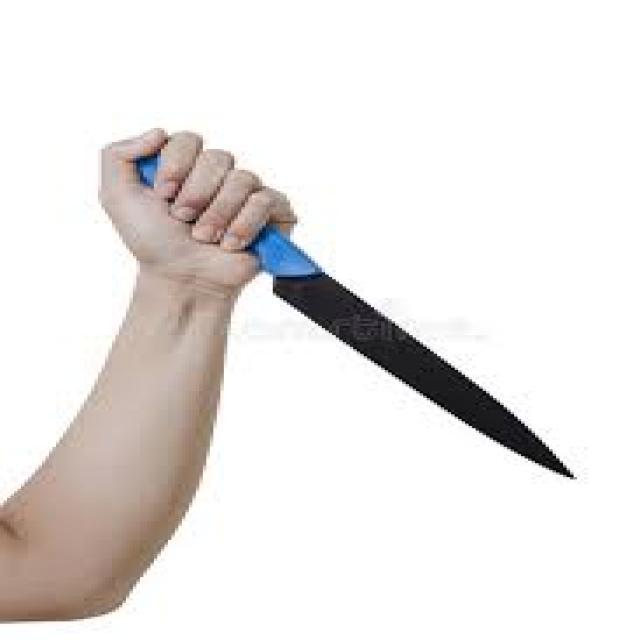faca: (80, 116, 588, 494)
